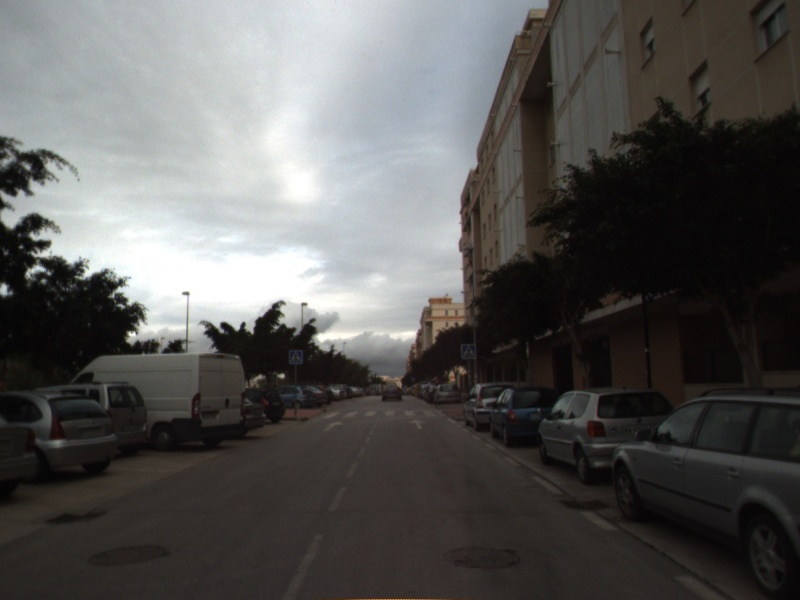STRAIGHT: (321, 418, 346, 433), (407, 417, 427, 431)
